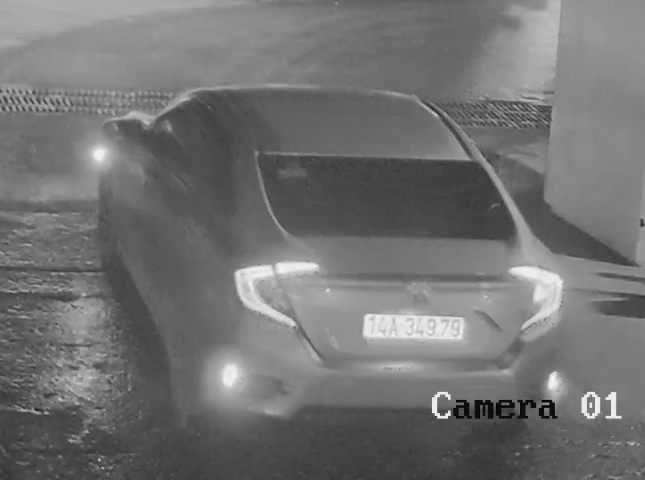vehicle plate: (361, 308, 469, 343)
